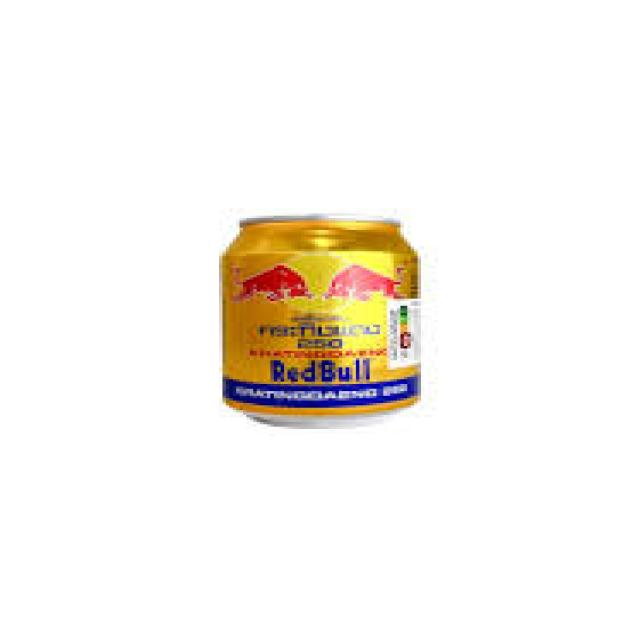Cans: (192, 206, 462, 427)
